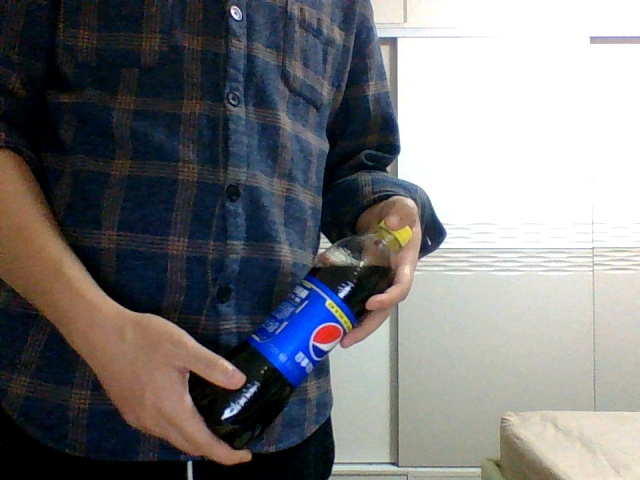Cola: (202, 214, 411, 449)
